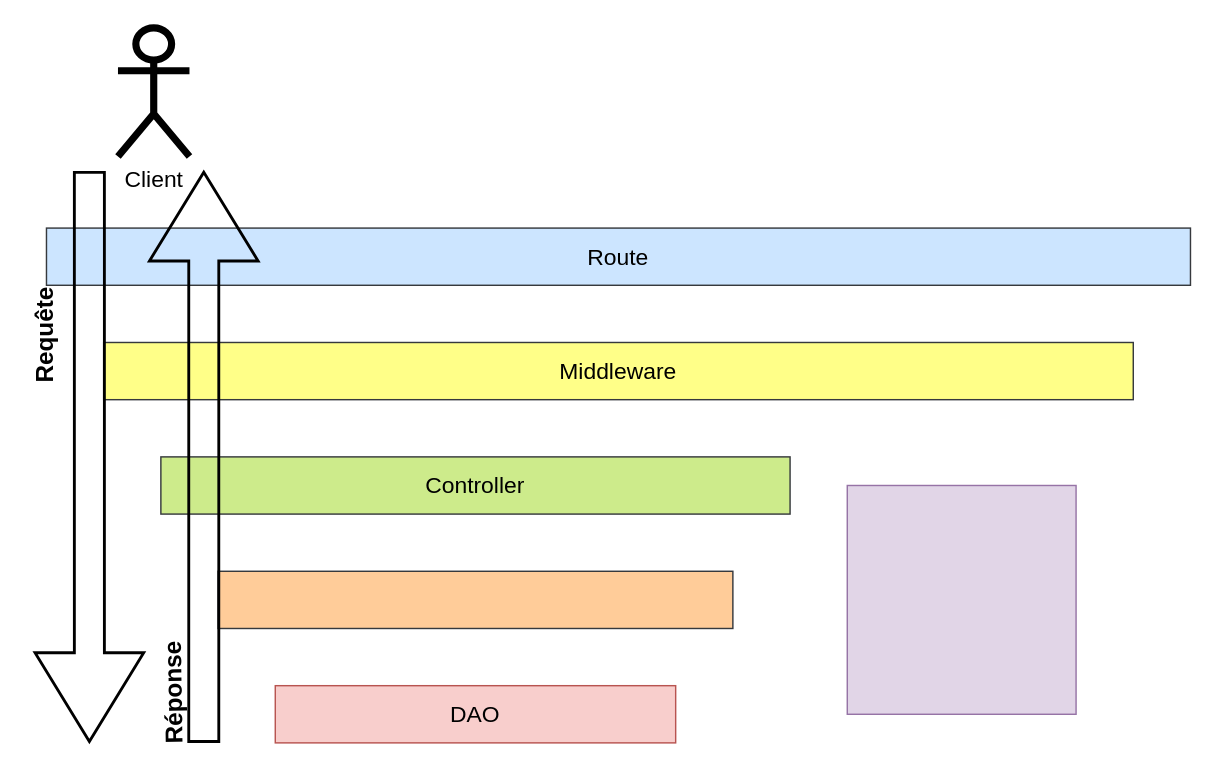
The diagram is 1216 pixels wide and 769 high, and some of its shapes have lost their labels. Each missing label, with the centre of its shape:
"Model" goes at [961,599].
"Service" goes at [475,599].
